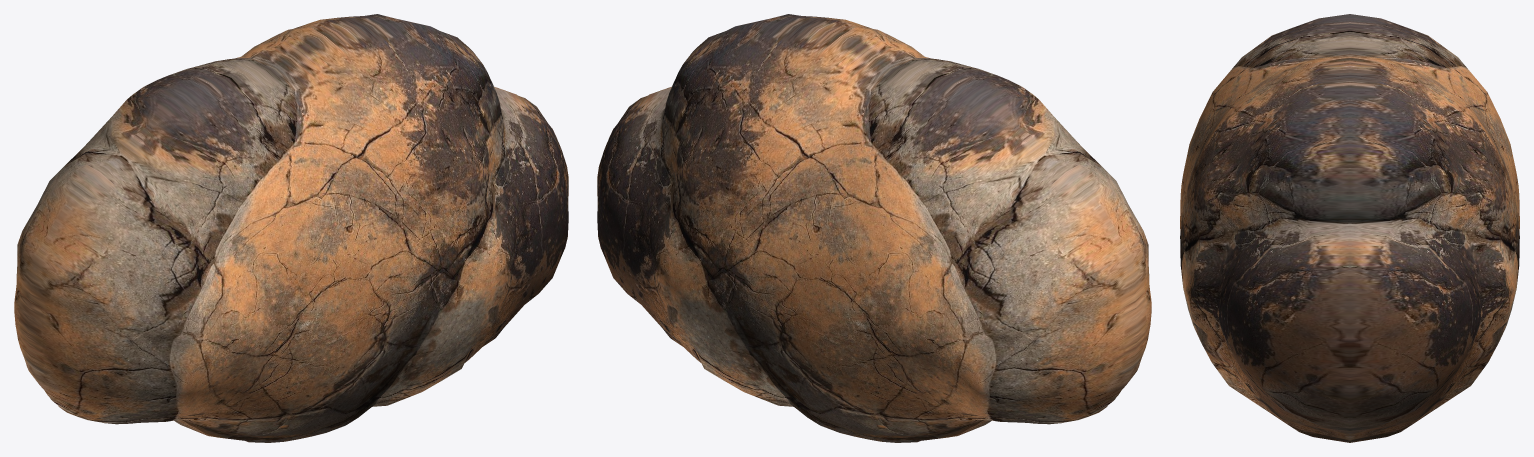
Rendered from rocher-4.glb.
3 views of the same model, side by side, from view 1: azimuth 30°, elevation 25°; view 2: azimuth 150°, elevation 25°; view 3: azimuth 270°, elevation 25° (orthographic). The views are drawn at different scales.
Visible parts, largest first — view 1: rocher-4; view 2: rocher-4; view 3: rocher-4.
Part boxes in pixels (x1,y1,x2,y2): rocher-4: (14, 14, 568, 442); rocher-4: (597, 14, 1151, 442); rocher-4: (1180, 14, 1519, 442).
Size of the model in its own units: 1.89 by 1.3 by 1.1.
Materials: 1 (1 with a texture image).
